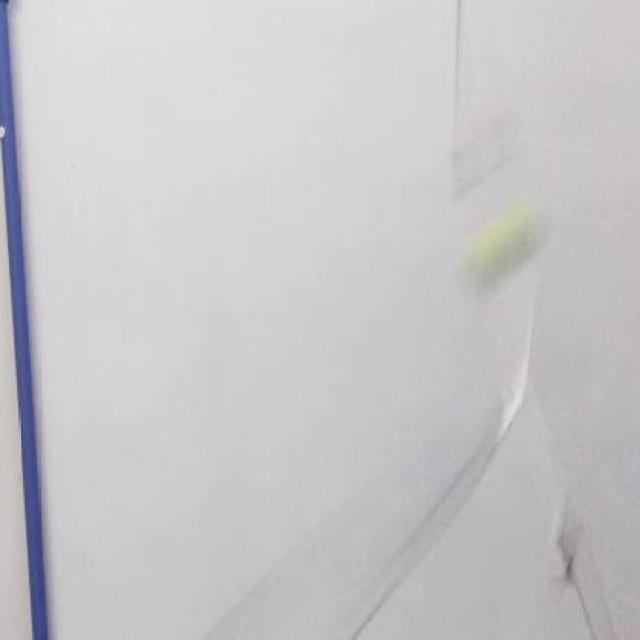baseball: (458, 187, 554, 293)
